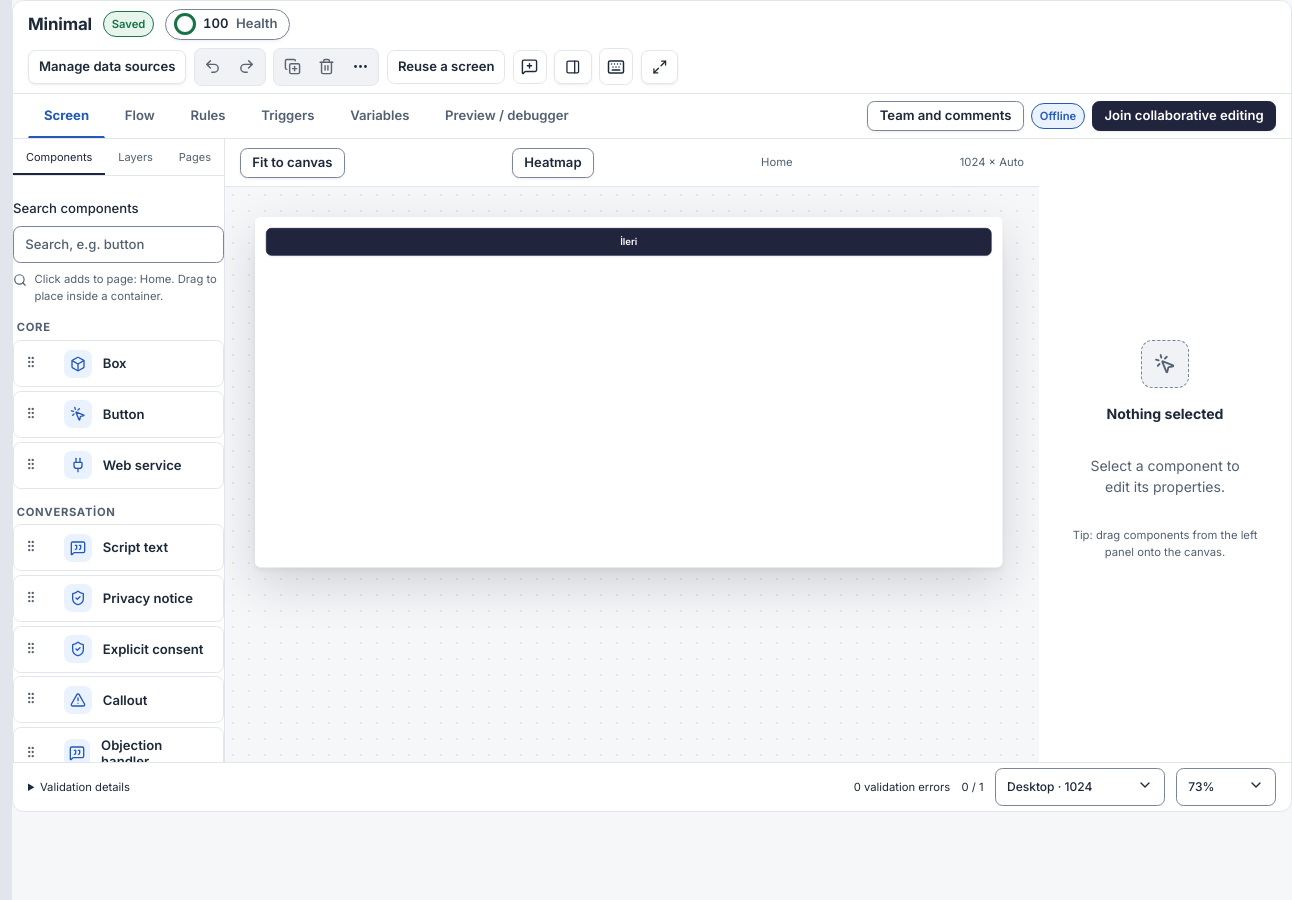
shows only undo and redo outside the screen canvas
The image size is (1292, 900).
Expected: the heading "Minimal" is shown, [28,14,92,34]
Click the button "Flow" at [140, 116], box [109,94,171,138]
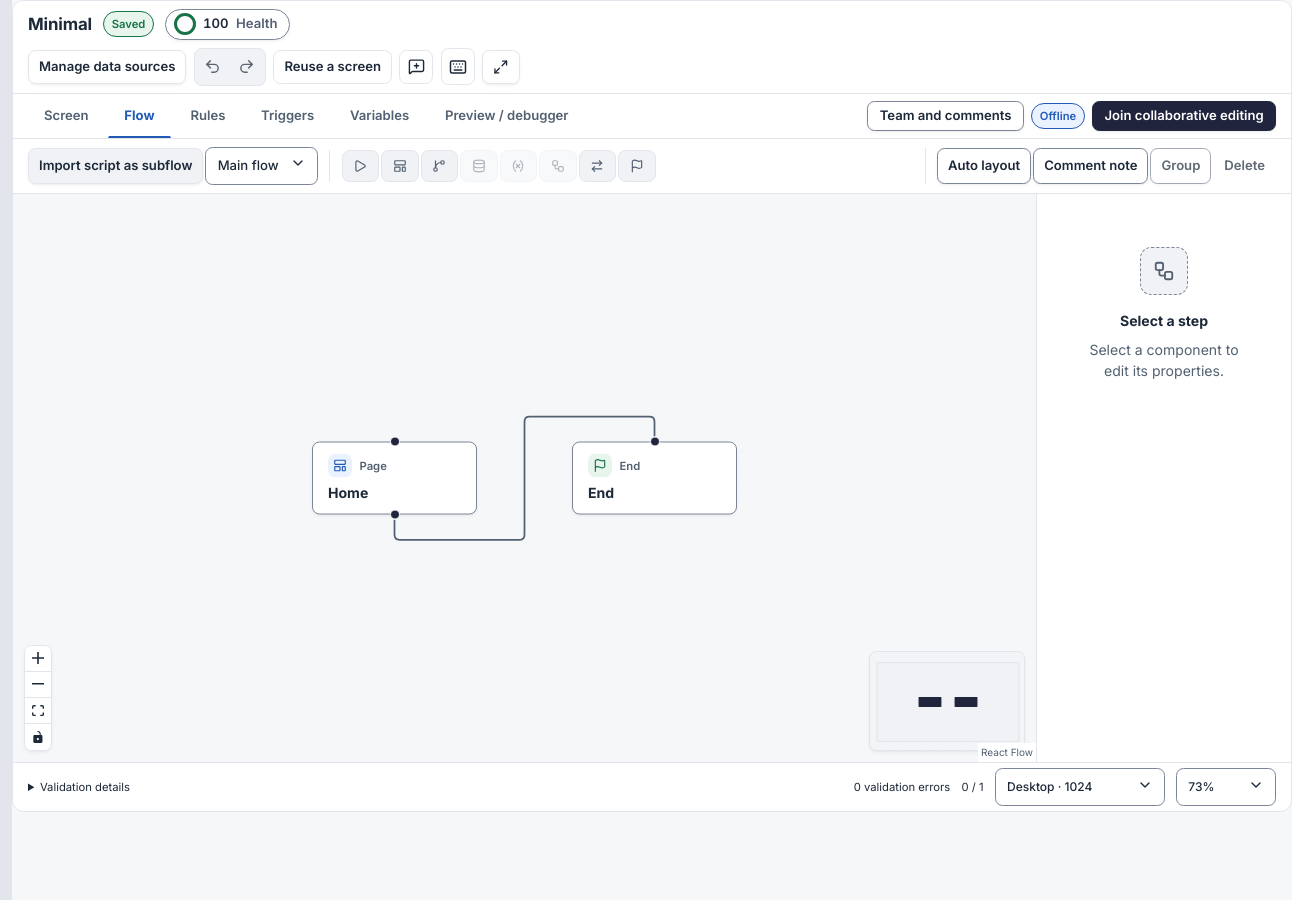
Expected: the button named "Undo" is shown, [197,50,229,82]
Expected: the button "Auto layout" is shown, [937,148,1031,184]
Expected: the button "Duplicate" is gone
